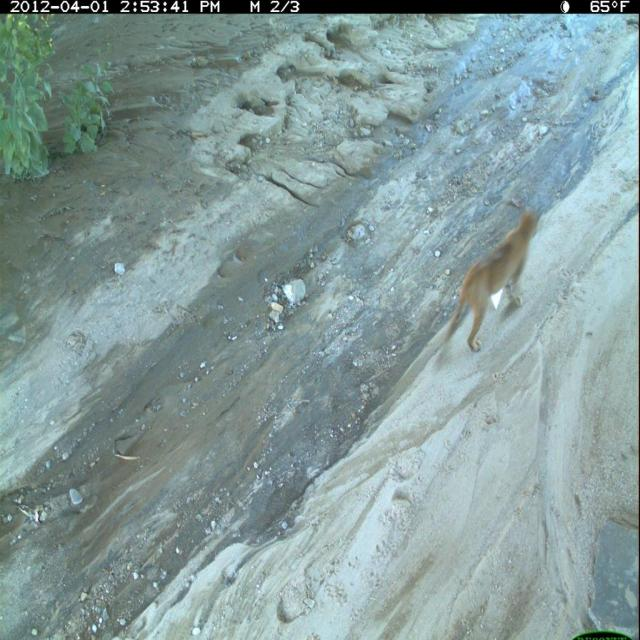bobcat: (442, 197, 548, 356)
